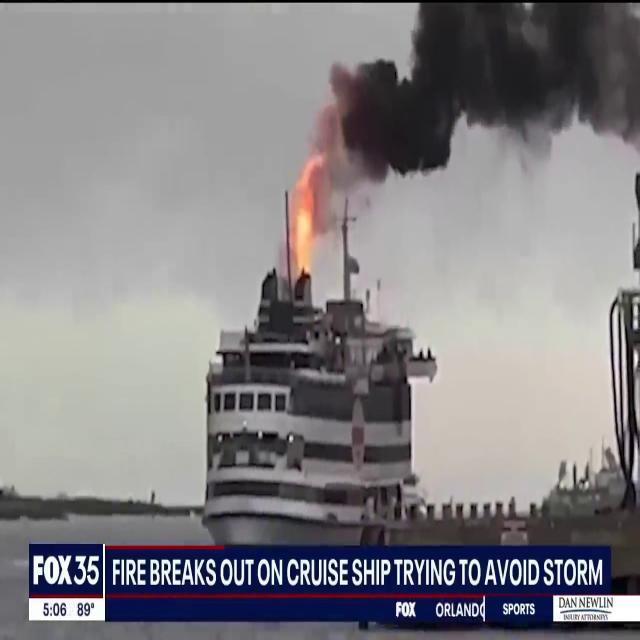Fire: (284, 174, 324, 285)
Smoke: (302, 1, 640, 210)
